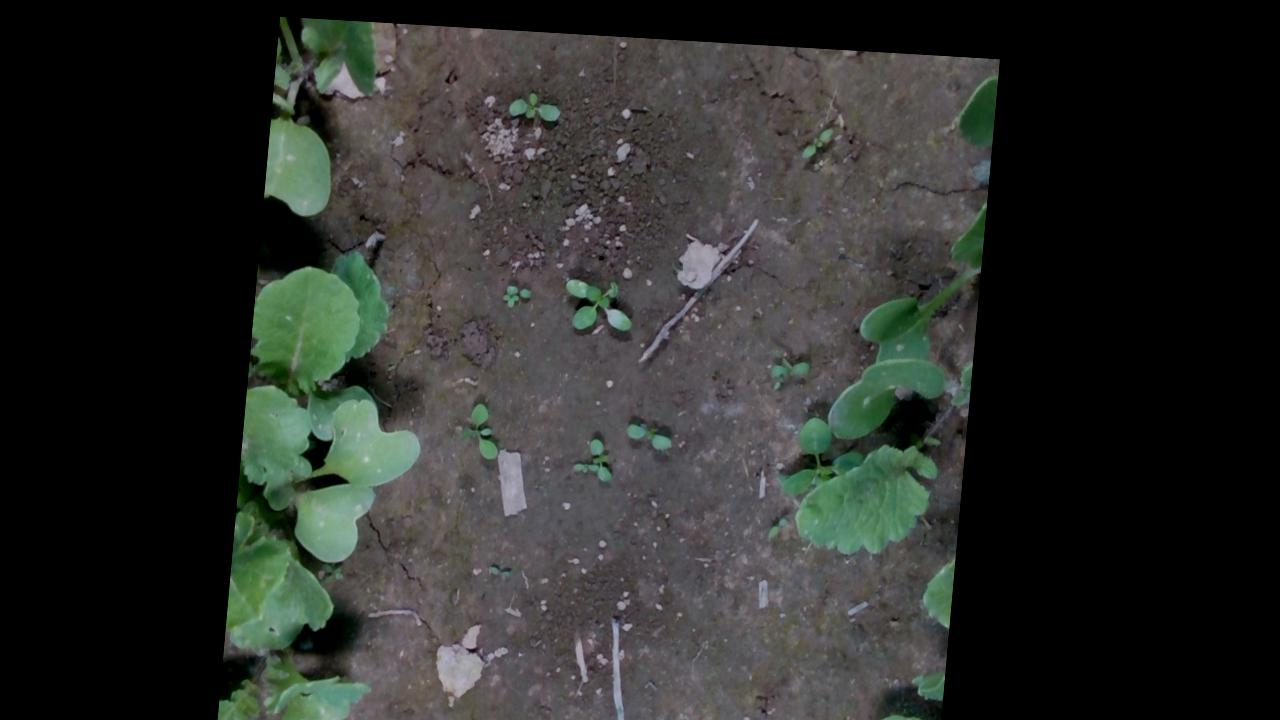weed: (464, 395, 510, 454), (508, 85, 563, 117), (628, 416, 680, 446), (800, 114, 837, 151)
